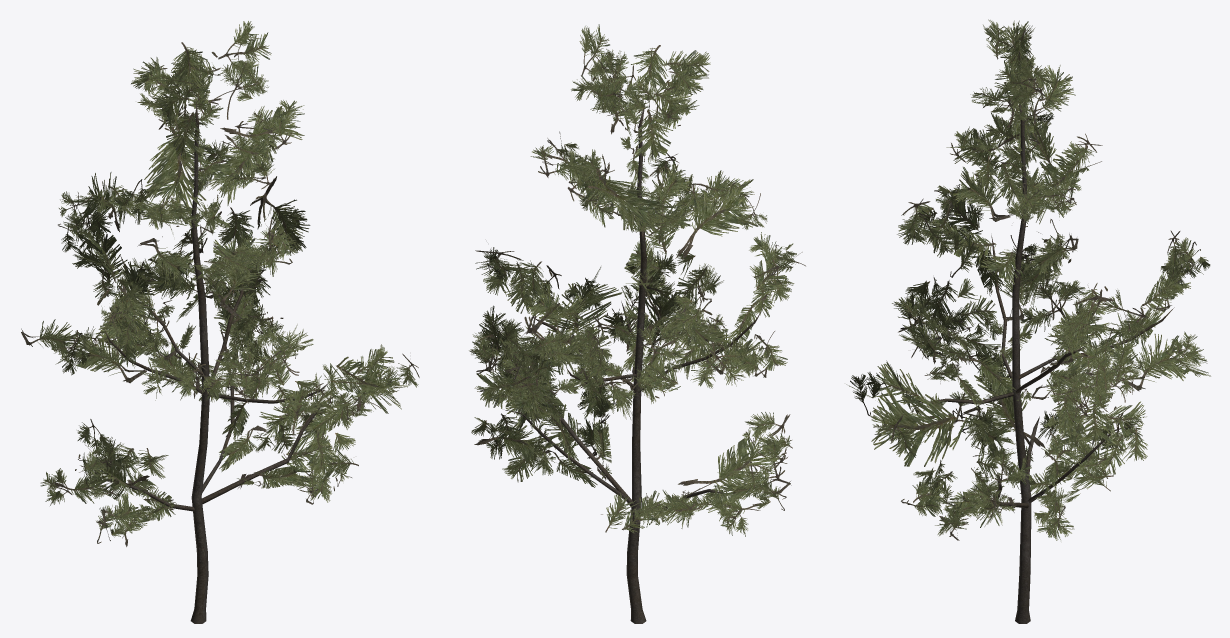
File: pine-sapling-small-a.glb
3 renders of one model, left to right at view 1: azimuth 30°, elevation 25°; view 2: azimuth 150°, elevation 25°; view 3: azimuth 270°, elevation 25°, orthographic.
Visible parts, largest first — view 1: pine_sapling_small_a; view 2: pine_sapling_small_a; view 3: pine_sapling_small_a.
Boxes of the visible parts, x1=… form: pine_sapling_small_a: x1=21, y1=21, x2=419, y2=623; pine_sapling_small_a: x1=469, y1=24, x2=805, y2=623; pine_sapling_small_a: x1=846, y1=19, x2=1210, y2=623.
Bounding box in the file's own units: 0.8104 × 1.31 × 0.7563.
Materials: 2 (2 with a texture image).
